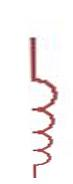inductor: (19, 71, 59, 168)
